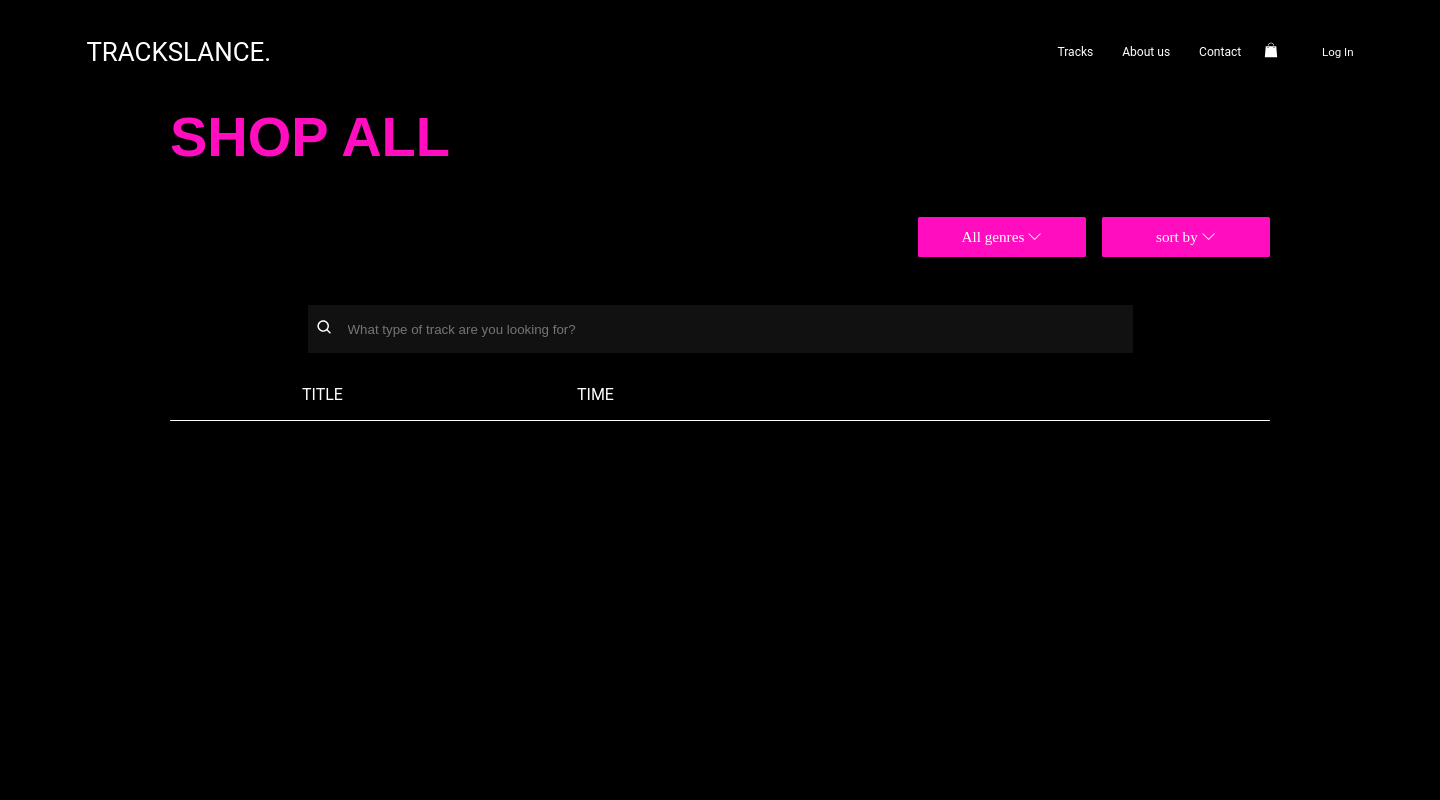
Test: track sorting, filtering tests › filter's button should open modal
Click the button "All genres" at (1002, 237), box [918, 217, 1086, 257]
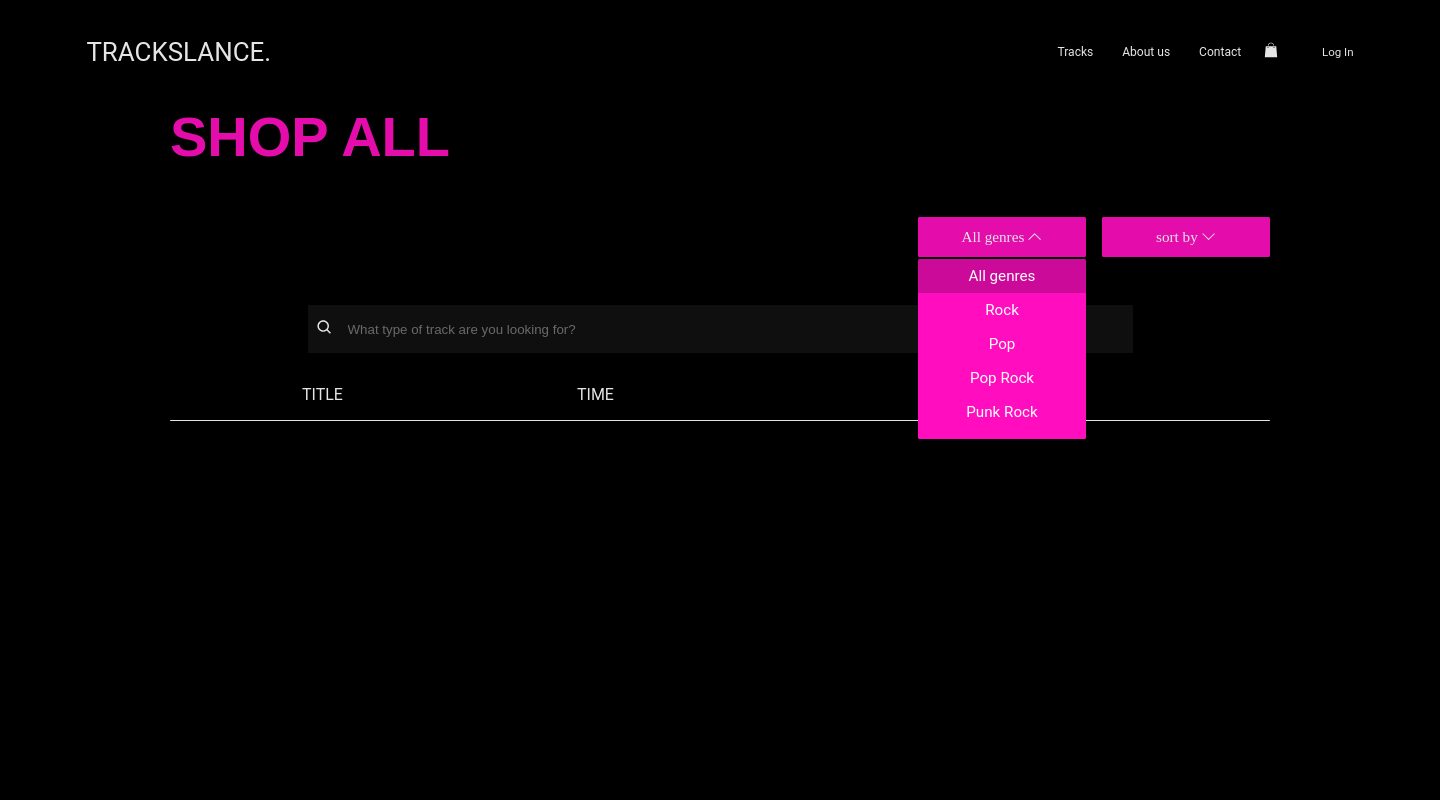
Expected: the list with test id "modal__list" is shown, [918, 259, 1086, 531]
